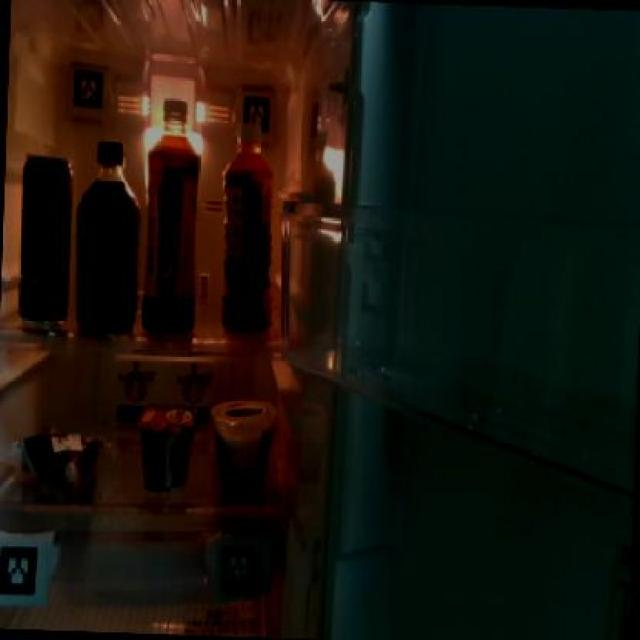coffee: (74, 134, 144, 332)
energy_drink: (15, 152, 74, 330)
pudding: (208, 396, 274, 486)
rice_ball: (16, 422, 104, 495)
tea_a: (215, 134, 280, 340)
tea_i: (139, 90, 204, 333)
yogurt: (135, 405, 196, 497)
